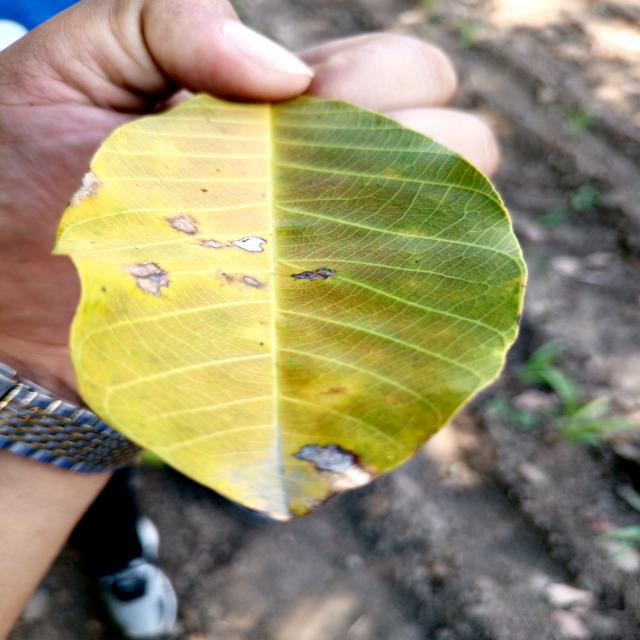Leaf-Blight: (231, 236, 266, 252)
